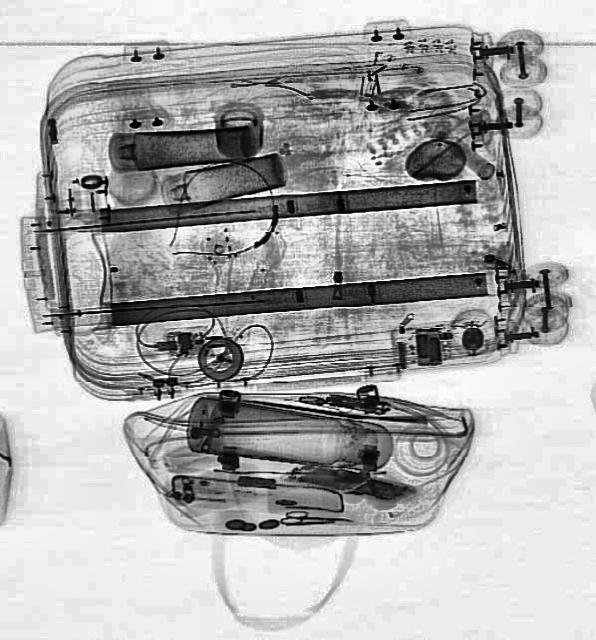Scissors: (277, 508, 351, 528)
